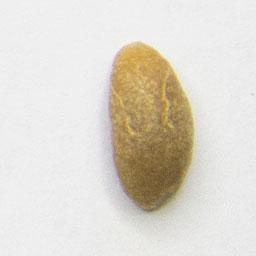longberry: (104, 40, 197, 214)
